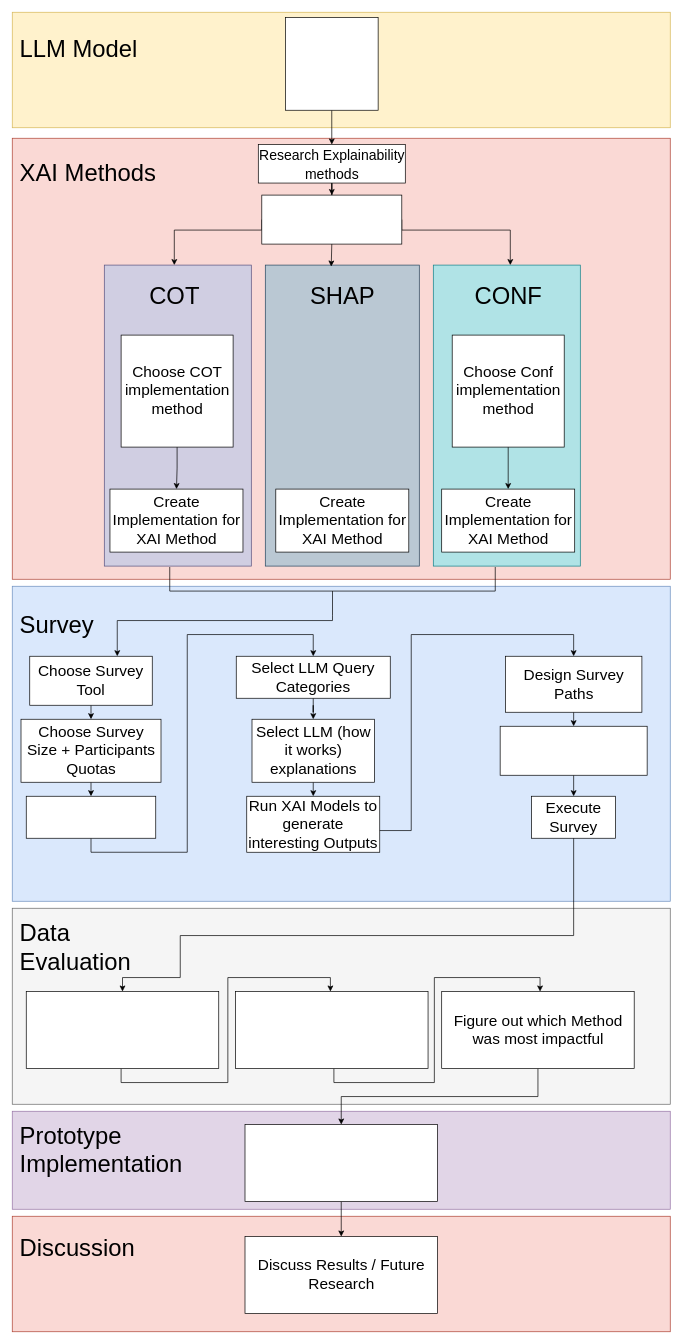
Image size: 683x1344. Some labels were removed from this diagram. The shapes that lost their labels are listed below. From the top down, each one's centre as x and y in pixels, then its label:
At (331,63): "Choose LLM model".
At (331,219): "Choose XAI Methods".
At (573,750): "Work with Bilendi for Feedback on Survey".
At (91,817): "Research Trust Aspects".
At (122,1030): "Cleanup Data Results".
At (331,1030): "Analyse different people groups reaction to XAI-Methods + Explanation".
At (341,1163): "Implement Prototype of Most Impactful Method".
